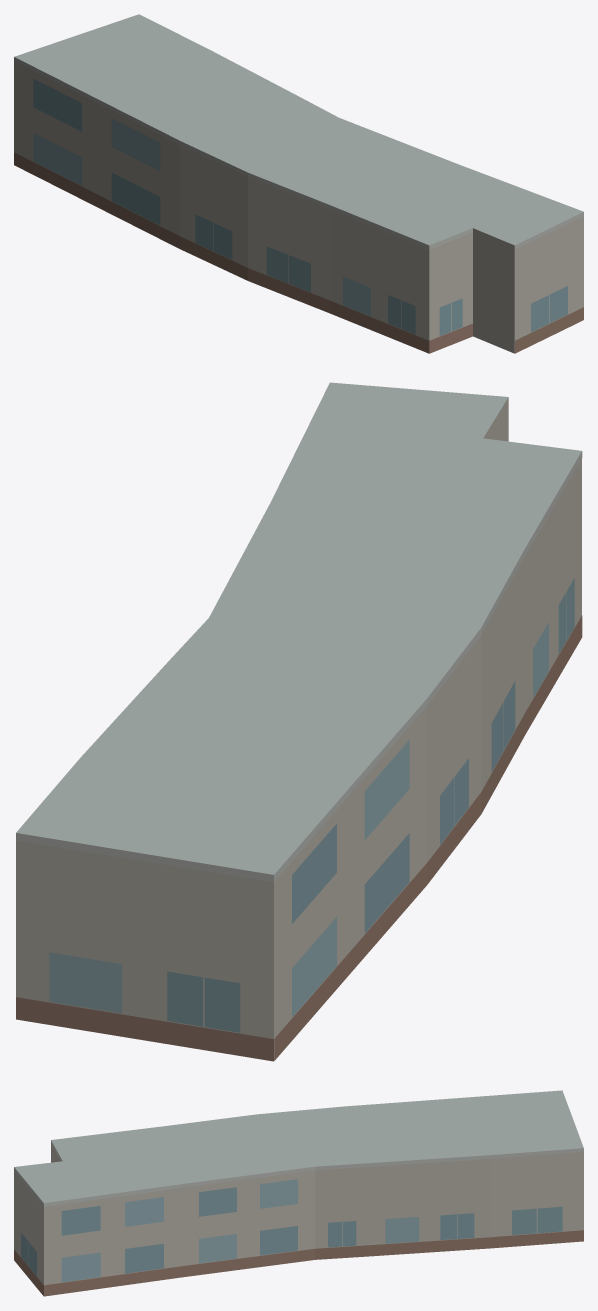
File: survey-upis-32822013.glb
3 views of the same model, one above another, from view 1: azimuth 30°, elevation 25°; view 2: azimuth 150°, elevation 25°; view 3: azimuth 270°, elevation 25° (orthographic). The views are drawn at different scales.
Parts seen in each view (by area): view 1: survey-upis-32822013.tmp; view 2: survey-upis-32822013.tmp; view 3: survey-upis-32822013.tmp.
Part boxes in pixels (x1,y1,x2,y2): survey-upis-32822013.tmp: (14,14,583,353); survey-upis-32822013.tmp: (16,382,582,1061); survey-upis-32822013.tmp: (14,1090,583,1296).
Size of the model in its own units: 15.84 by 6.1 by 33.79.
